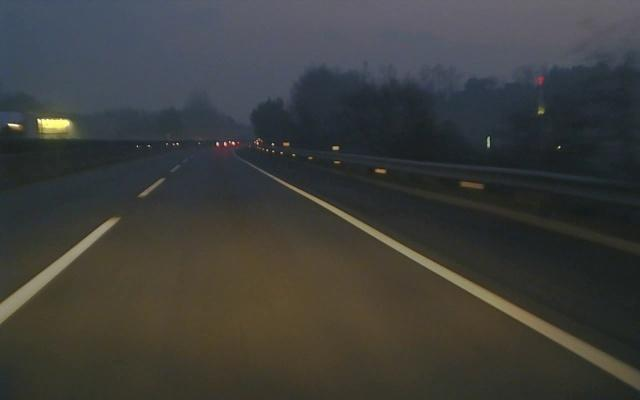lane: (251, 165, 640, 392), (0, 164, 181, 327)
